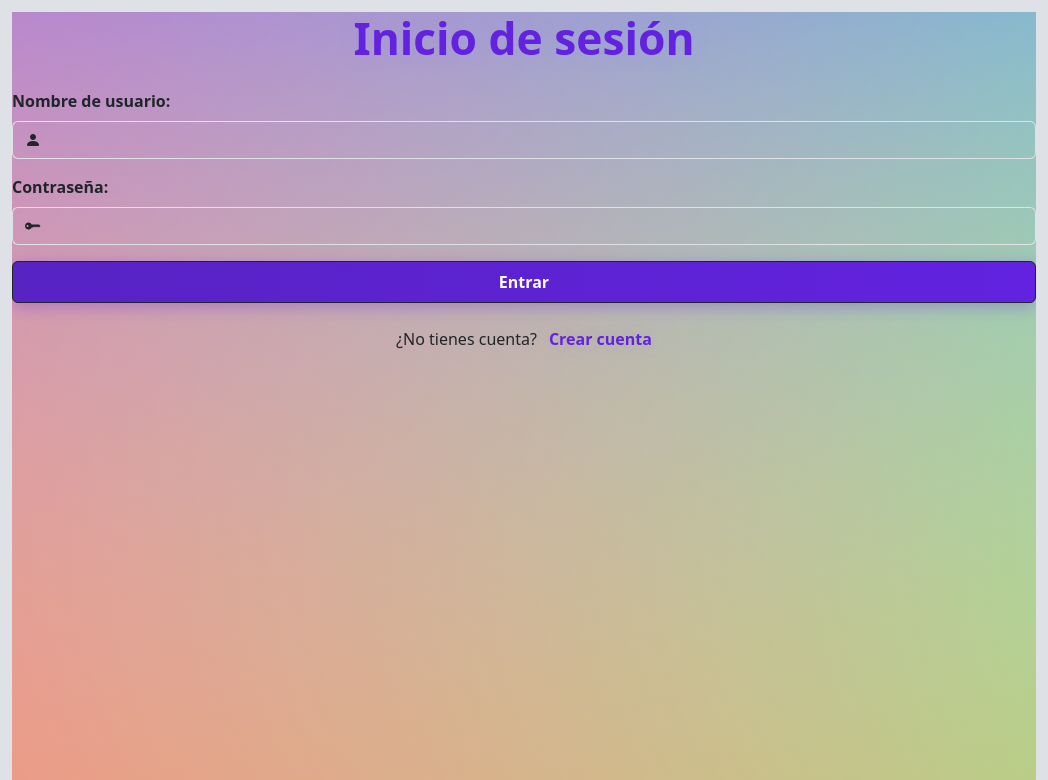
Scenario: LoginForm › login existing user
The width and height of the screenshot is (1048, 780).
In the field labelled "Nombre de usuario:": (544, 140) [52,121,1036,159], type "test-username"
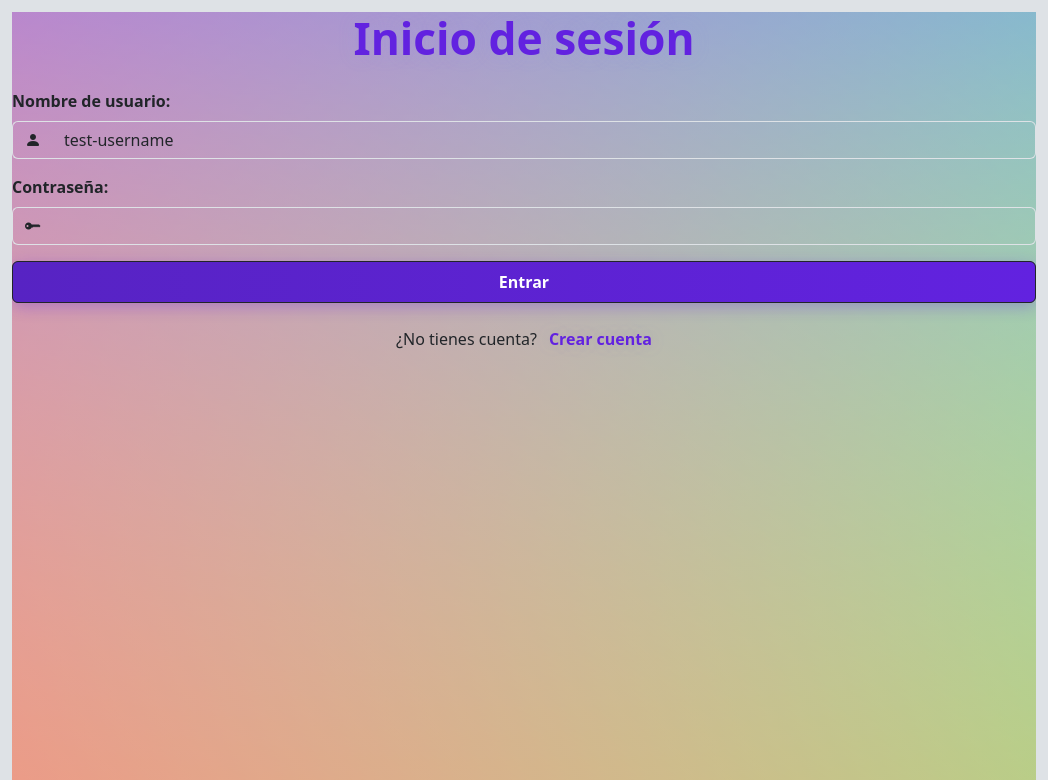
In the password field labelled "Contraseña:": (544, 226) [52,207,1036,245], type "testpassword"
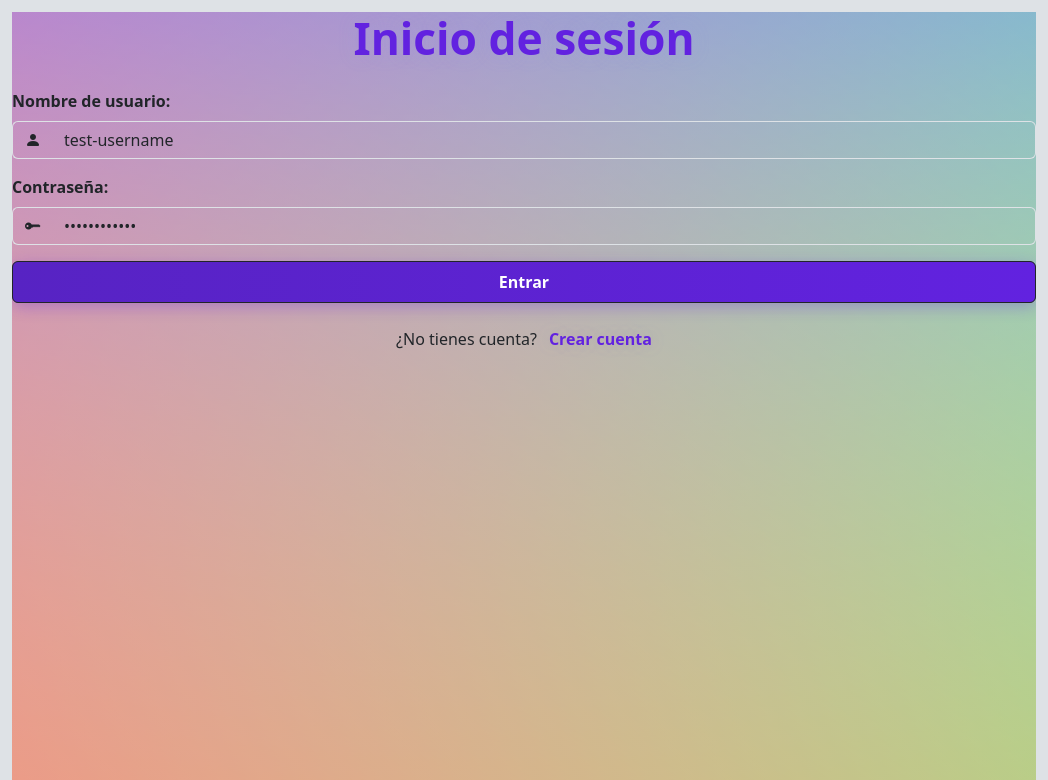
Click the button "Entrar": click(524, 282) [12,261,1036,303]
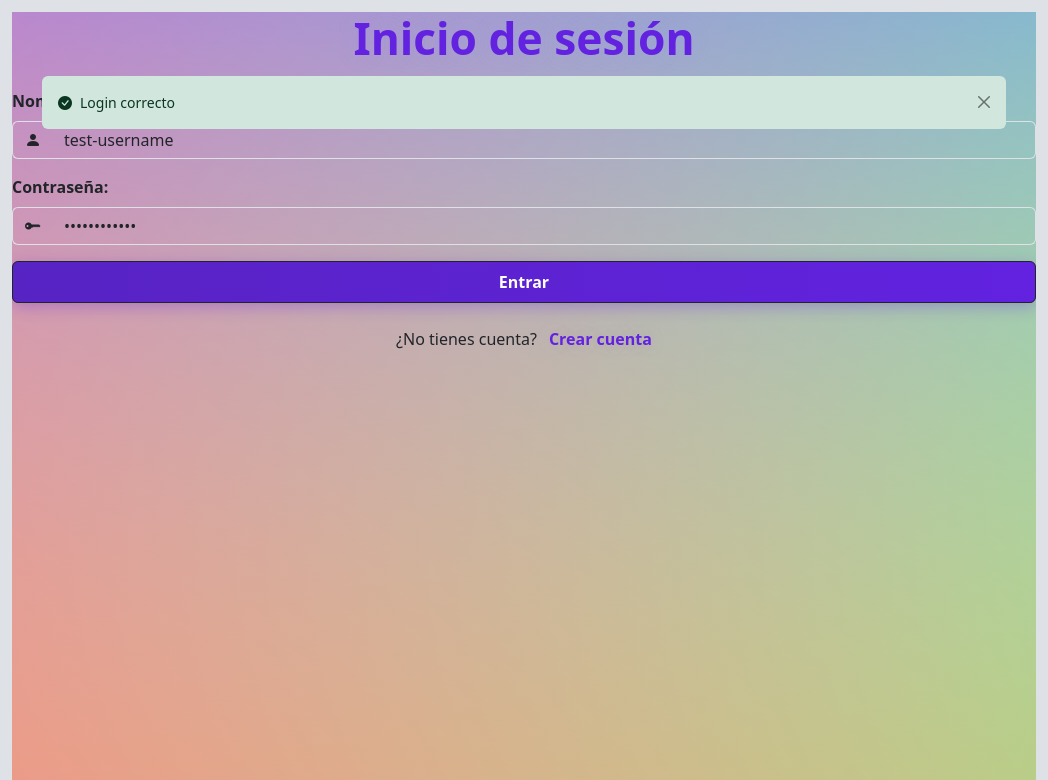
expect the text "Login correcto" is shown: met, box [80,93,175,112]
